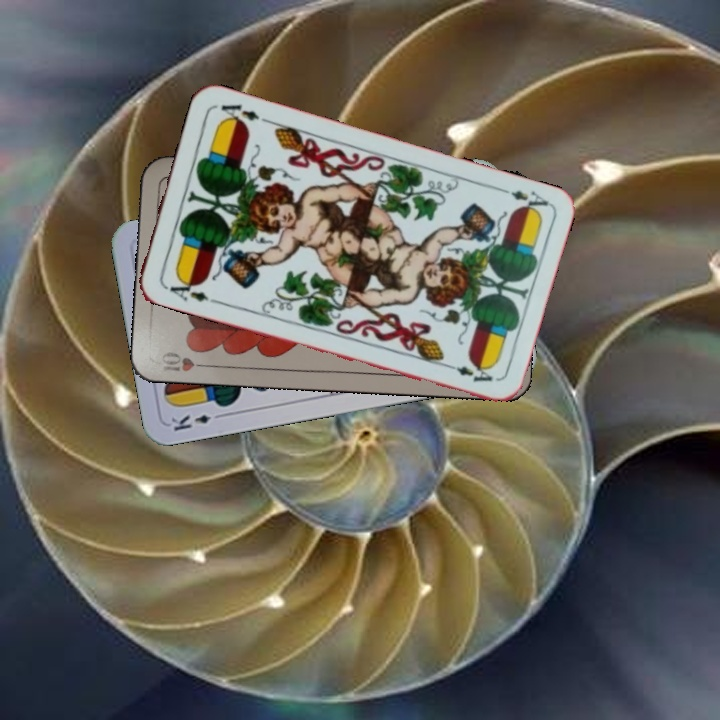EA: (493, 182, 551, 217), (160, 273, 219, 306)
EK: (167, 409, 226, 434)
H10: (157, 347, 214, 374)
